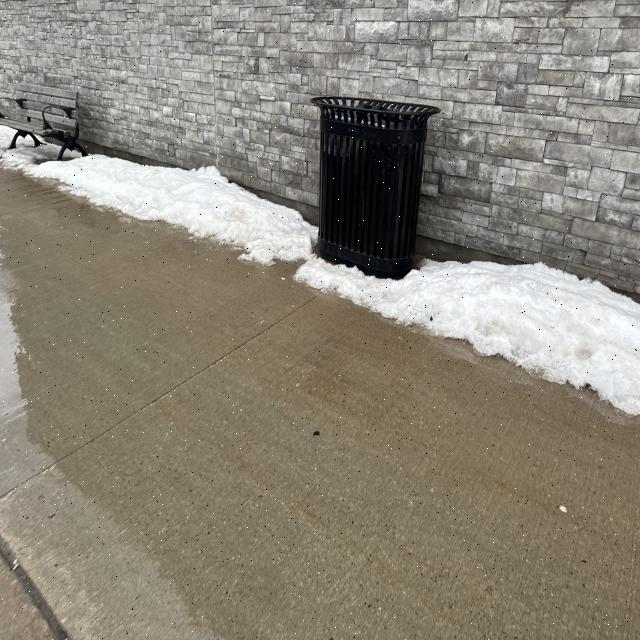Dustbin: (312, 95, 442, 274)
